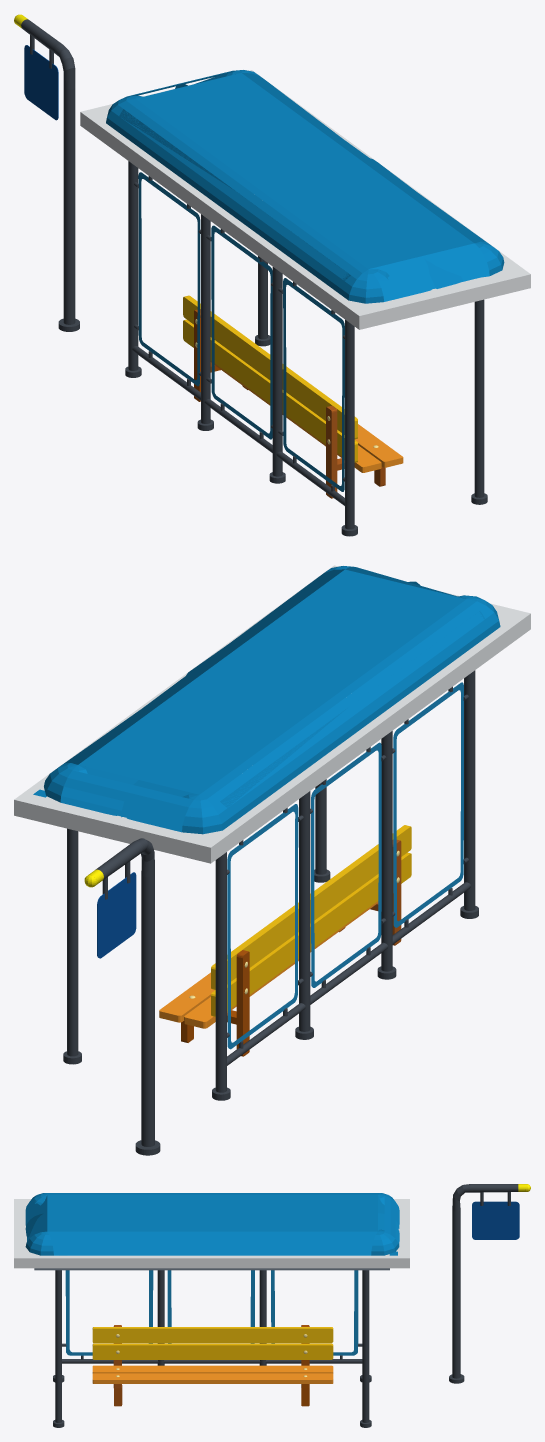
The model's file is Bus Stop.fbx.
3 views of the same model, one above another, from view 1: azimuth 30°, elevation 25°; view 2: azimuth 150°, elevation 25°; view 3: azimuth 270°, elevation 25° (orthographic). The views are drawn at different scales.
Parts seen in each view (by area): view 1: Cube.026; view 2: Cube.026; view 3: Cube.026.
Part boxes in pixels (<box>): Cube.026: <box>14,14,530,536</box>; Cube.026: <box>14,565,530,1155</box>; Cube.026: <box>14,1184,530,1427</box>.
Bounding box in the file's own units: 272 × 419 × 1000.
